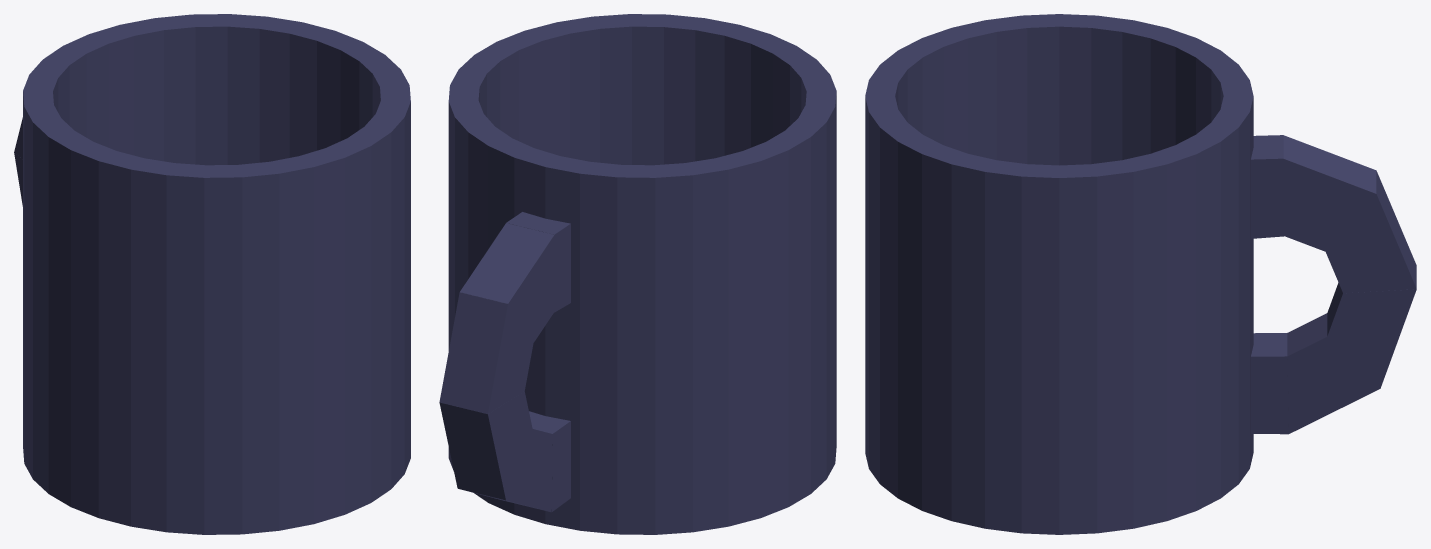
Rendered from Mug.fbx.
3 renders of one model, left to right at view 1: azimuth 30°, elevation 25°; view 2: azimuth 150°, elevation 25°; view 3: azimuth 270°, elevation 25°, orthographic.
Visible parts, largest first — view 1: Circle; view 2: Circle; view 3: Circle.
Boxes of the visible parts, <box> form: Circle: <box>14,14,410,534</box>; Circle: <box>439,14,836,534</box>; Circle: <box>865,14,1416,534</box>.
Bounding box in the file's own units: 32.24 × 32.68 × 45.79.
